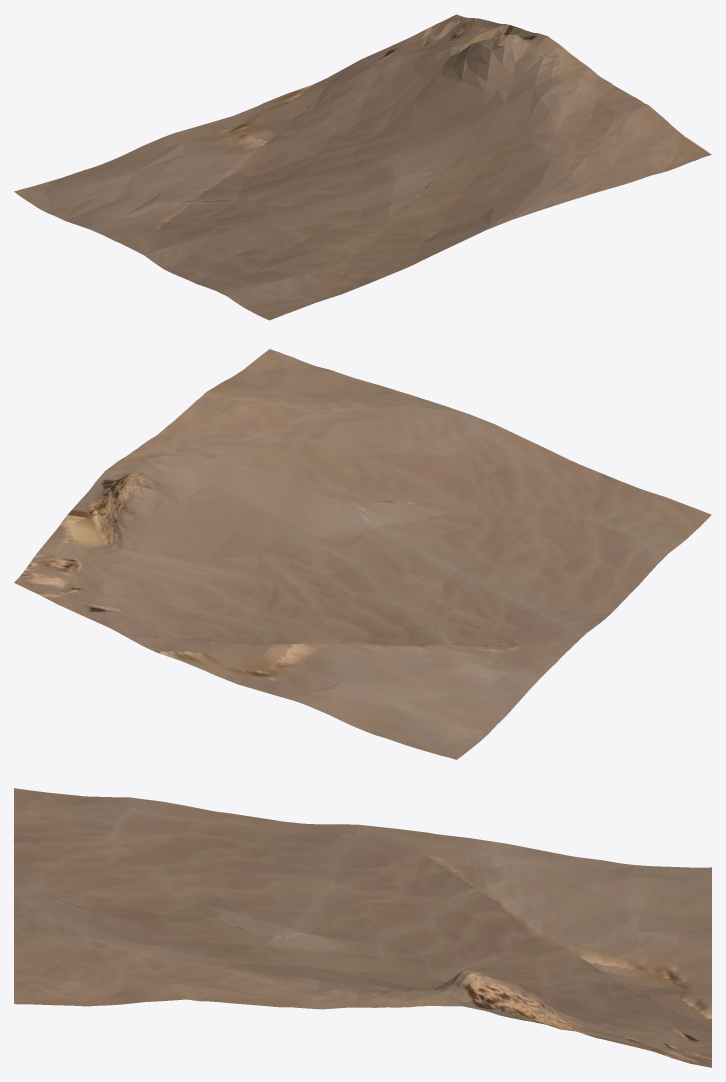
3 renders of one model, top to bottom at view 1: azimuth 30°, elevation 25°; view 2: azimuth 150°, elevation 25°; view 3: azimuth 270°, elevation 25°, orthographic. The views are drawn at different scales.
Bounding box in the file's own units: 2.09 × 0.5508 × 2.09.
2 materials, 2 textured.
